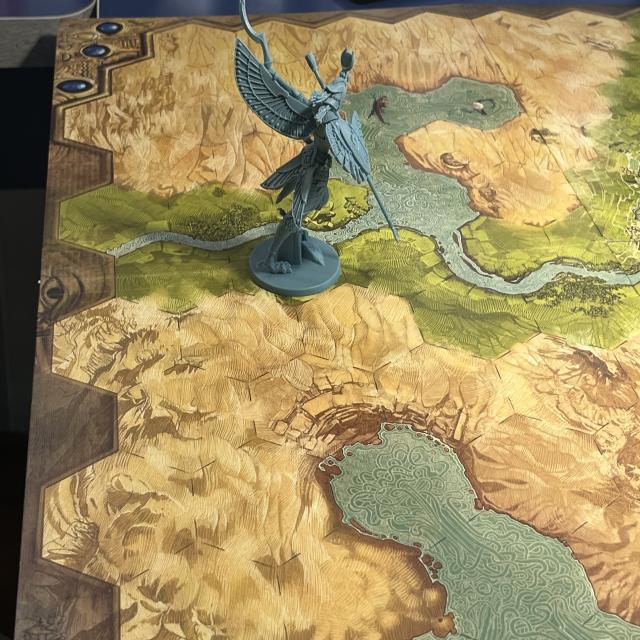isis: (231, 0, 405, 297)
